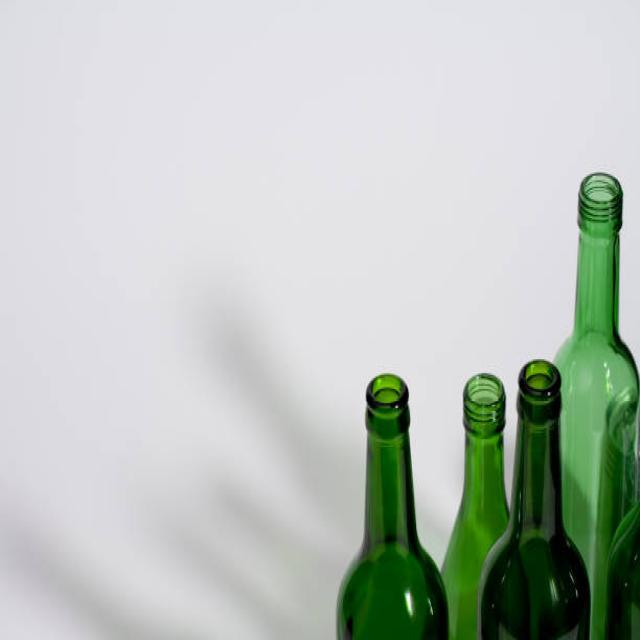electronic: (334, 171, 640, 640)
